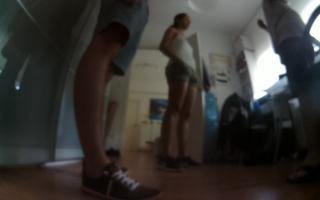person: (71, 1, 164, 199), (253, 1, 320, 188), (155, 10, 207, 175)
